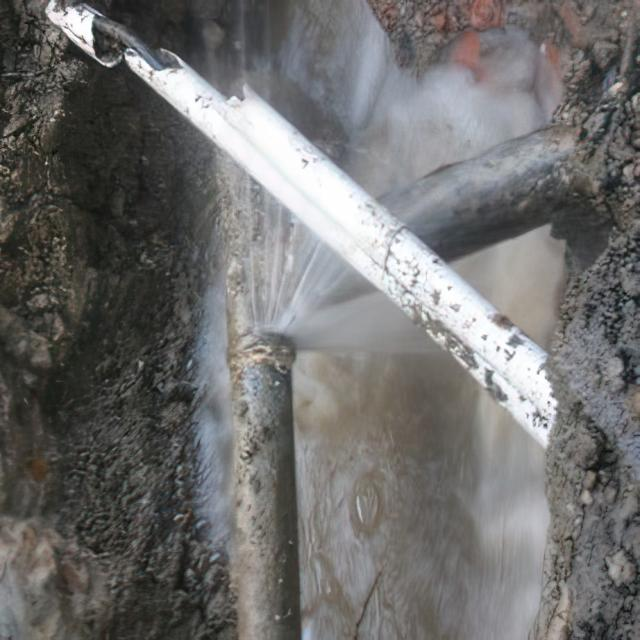leak: (251, 194, 434, 350)
